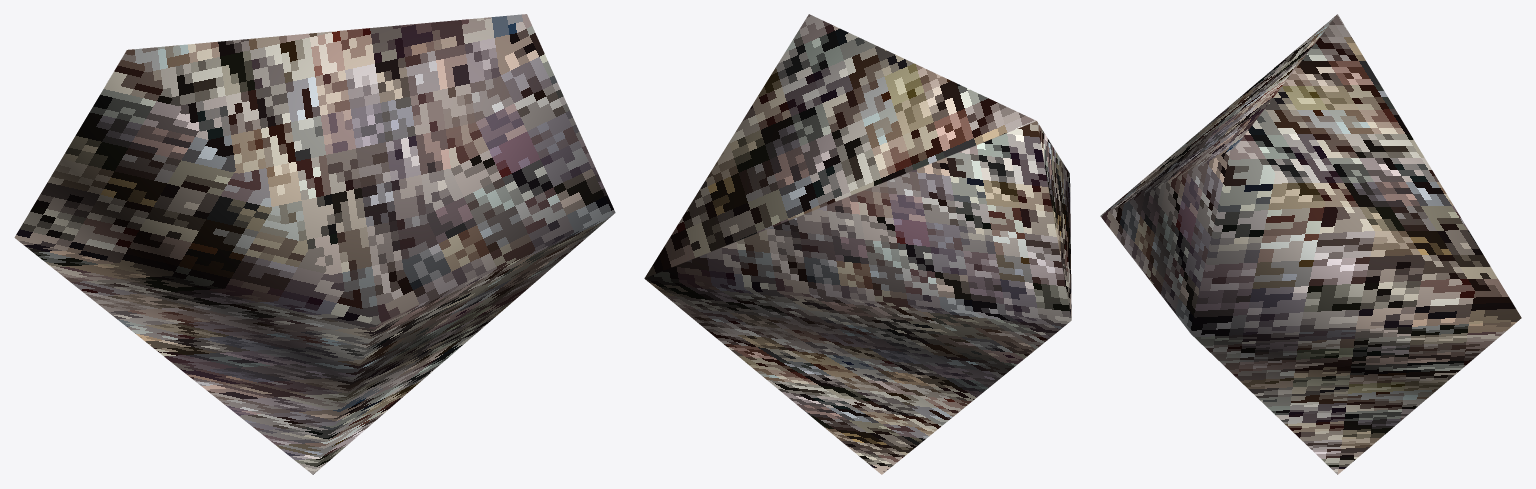
Rendered from rock_tiny_purp_l1.fbx.
3 renders of one model, left to right at view 1: azimuth 30°, elevation 25°; view 2: azimuth 150°, elevation 25°; view 3: azimuth 270°, elevation 25°, orthographic. The views are drawn at different scales.
Visible parts, largest first — view 1: mesh_node; view 2: mesh_node; view 3: mesh_node.
Boxes of the visible parts, bbox=[...] form: mesh_node: bbox=[14, 14, 615, 474]; mesh_node: bbox=[644, 14, 1071, 474]; mesh_node: bbox=[1100, 14, 1521, 474].
Bounding box in the file's own units: 0.4341 × 0.4096 × 0.4051.
